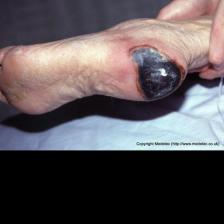Wound: (125, 42, 186, 100)
